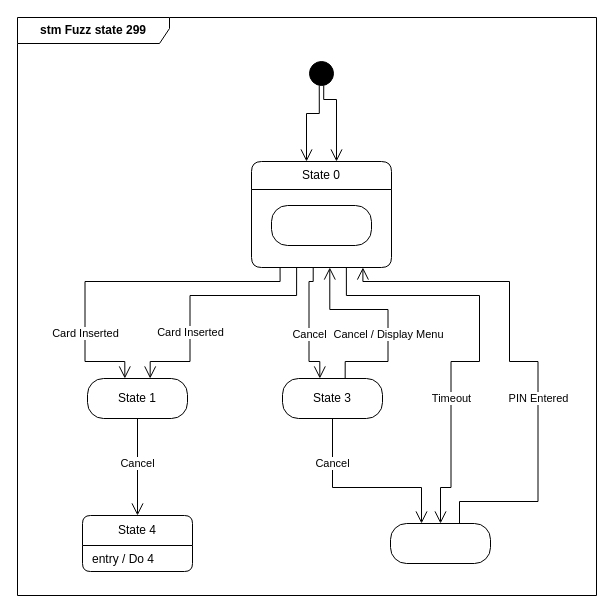
Image size: 614x613. Some labels were removed from this diagram. The shapes that lost their labels are listed below. From the top down, each one's centre as x and y in pixels, then its label:
At pixel 321 225: "State 2".
At pixel 440 543: "State 5".
